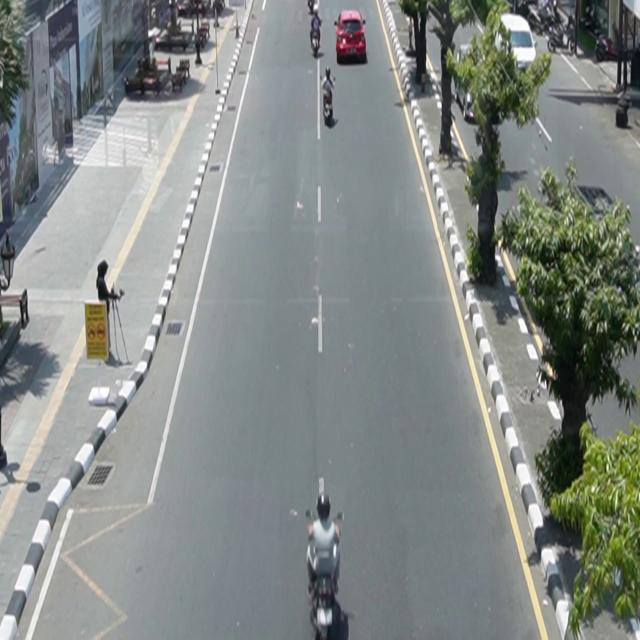car: (335, 10, 367, 64)
